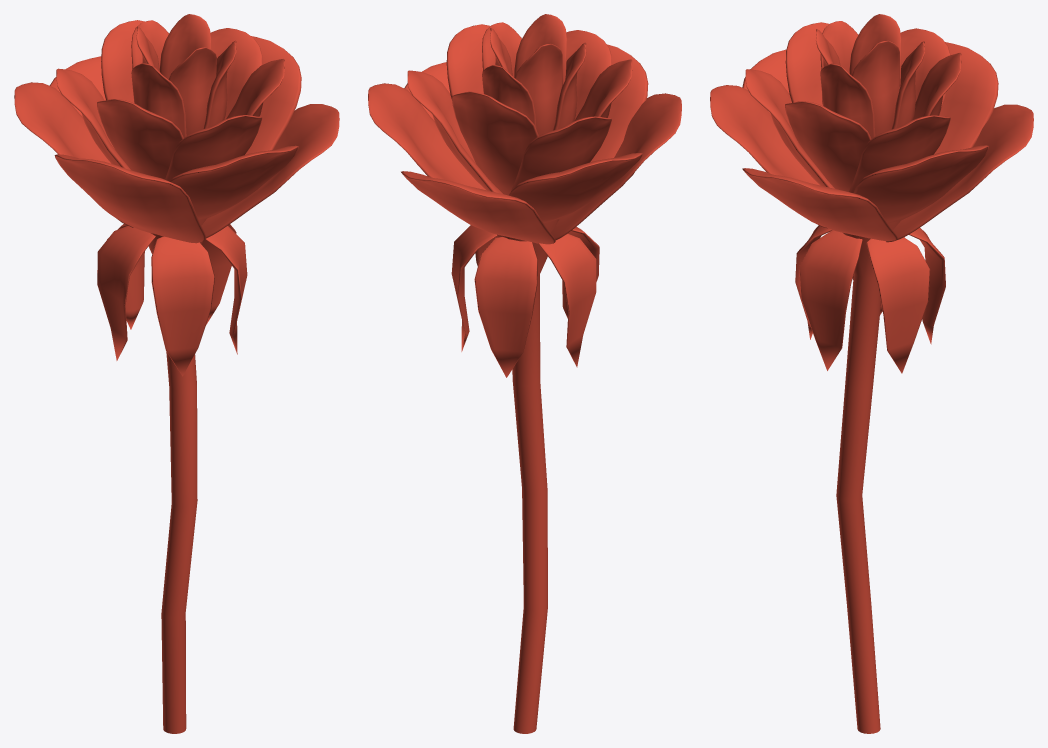
File: RoseFlower_Low.fbx
3 renders of one model, left to right at view 1: azimuth 30°, elevation 25°; view 2: azimuth 150°, elevation 25°; view 3: azimuth 270°, elevation 25°, orthographic.
Visible parts, largest first — view 1: RoseFlower_low; view 2: RoseFlower_low; view 3: RoseFlower_low.
Boxes of the visible parts, bbox=[...] form: RoseFlower_low: bbox=[14, 14, 339, 733]; RoseFlower_low: bbox=[368, 14, 681, 733]; RoseFlower_low: bbox=[710, 14, 1033, 733].
Size of the model in its own units: 3.43 by 8.55 by 3.58.
